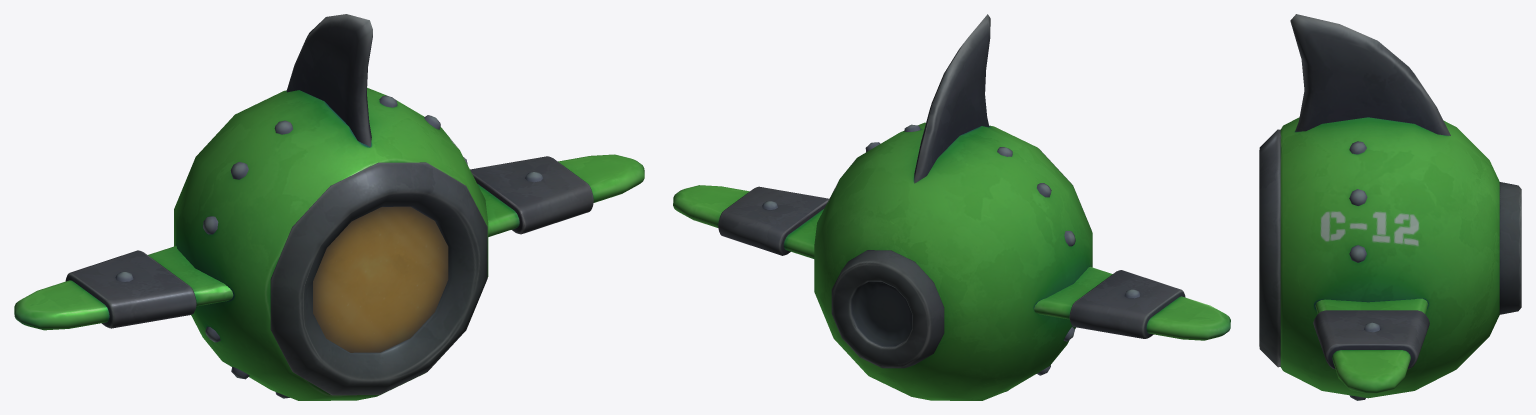
Rendered from Spaceship_Combat_C12.fbx.
3 views of the same model, side by side, from view 1: azimuth 30°, elevation 25°; view 2: azimuth 150°, elevation 25°; view 3: azimuth 270°, elevation 25° (orthographic). The views are drawn at different scales.
Visible parts, largest first — view 1: Spaceship_Combat_C12; view 2: Spaceship_Combat_C12; view 3: Spaceship_Combat_C12.
Part boxes in pixels (x1=…): Spaceship_Combat_C12: x1=14, y1=14, x2=644, y2=400; Spaceship_Combat_C12: x1=673, y1=14, x2=1230, y2=400; Spaceship_Combat_C12: x1=1259, y1=14, x2=1521, y2=400.
Bounding box in the file's own units: 823 × 505 × 322.
